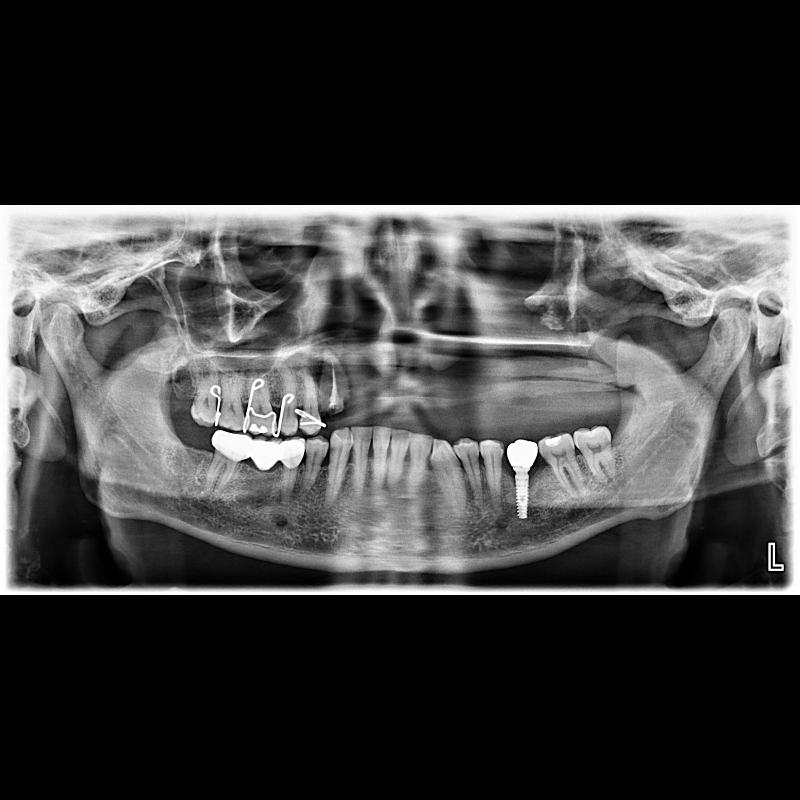NORIS: (514, 474, 532, 522)
